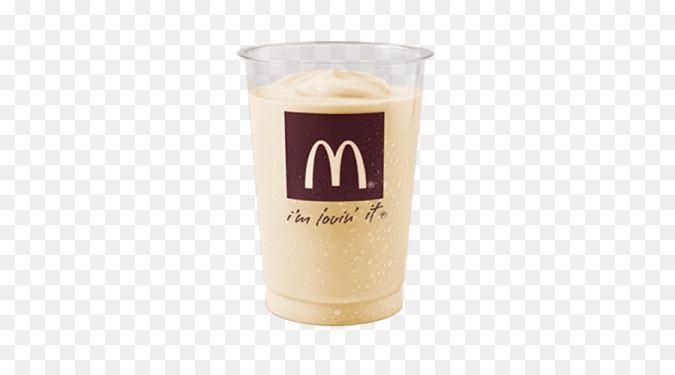mcdonalds: (300, 136, 369, 196)
